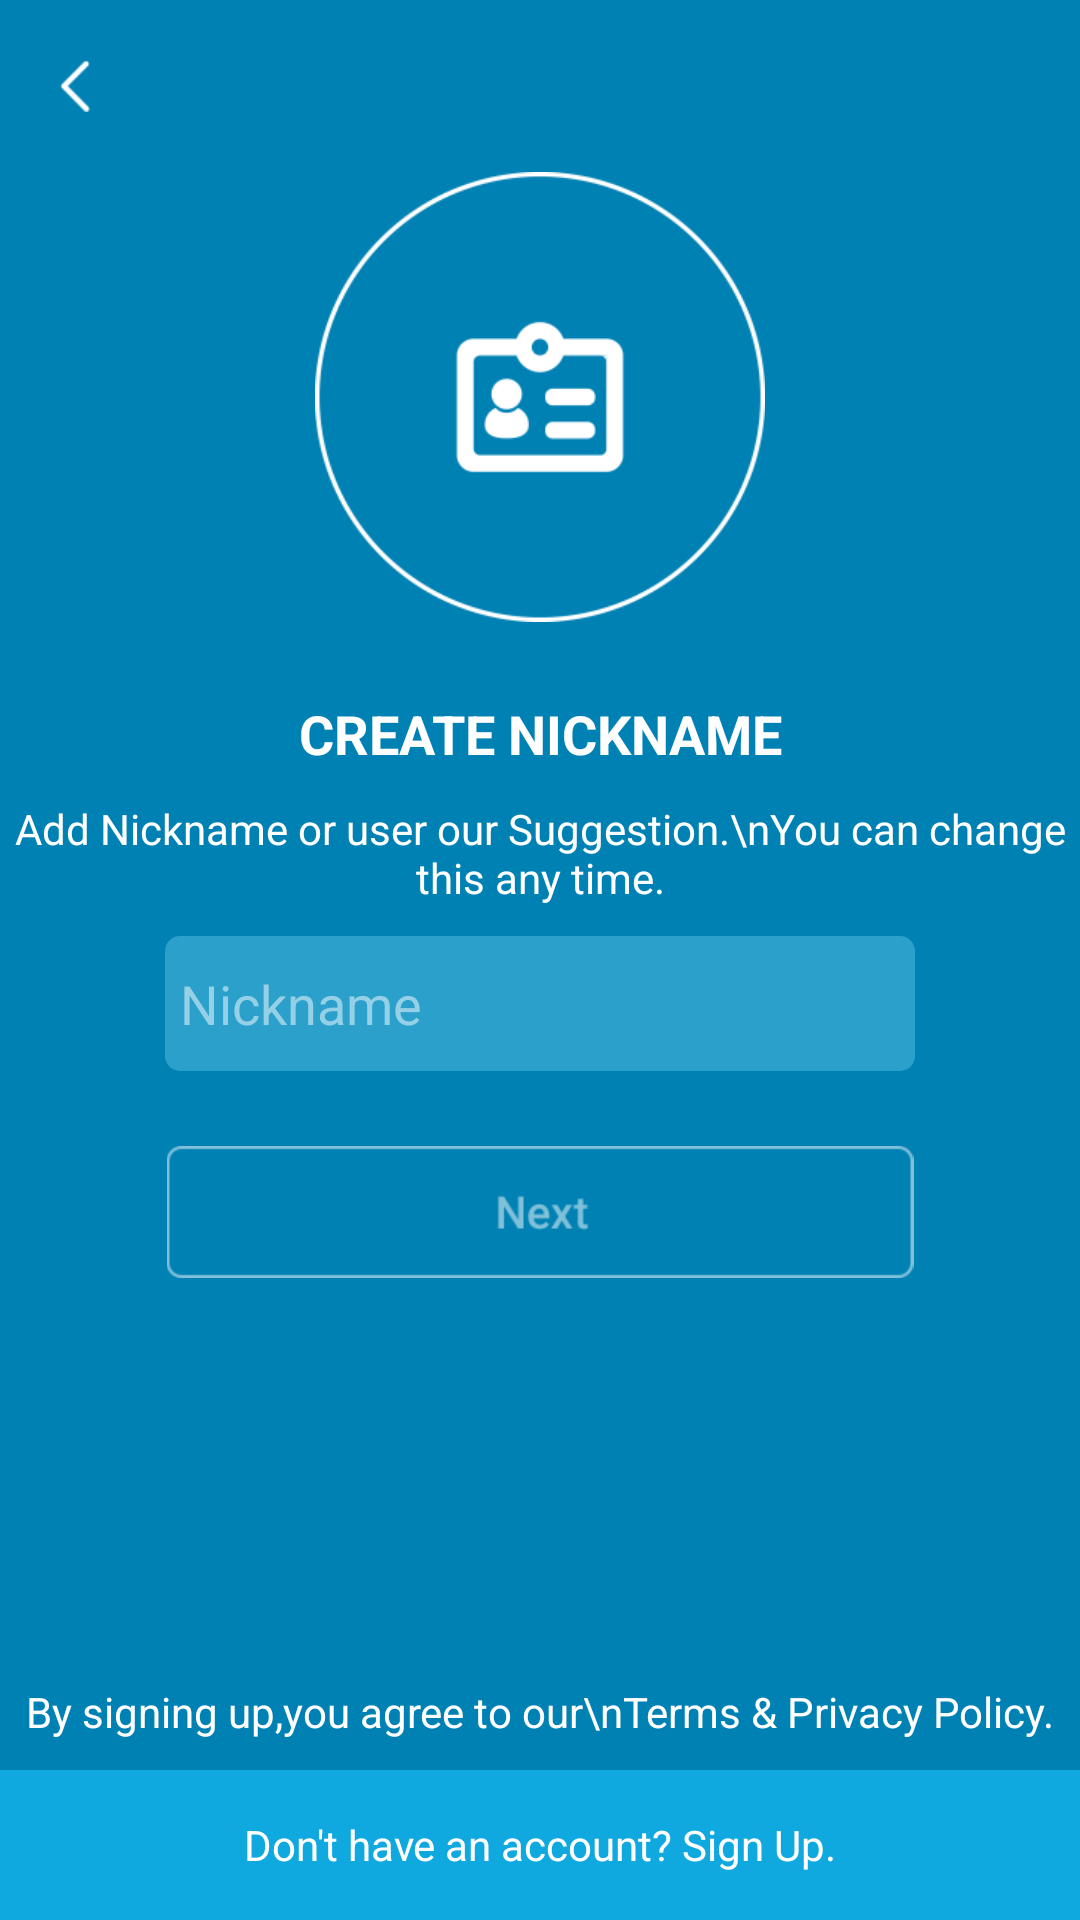

Named icons in this screenshot (1080×1920) and their bounding boxes, bbox(x1, y1, x2, y2):
back: bbox(60, 60, 90, 112)
